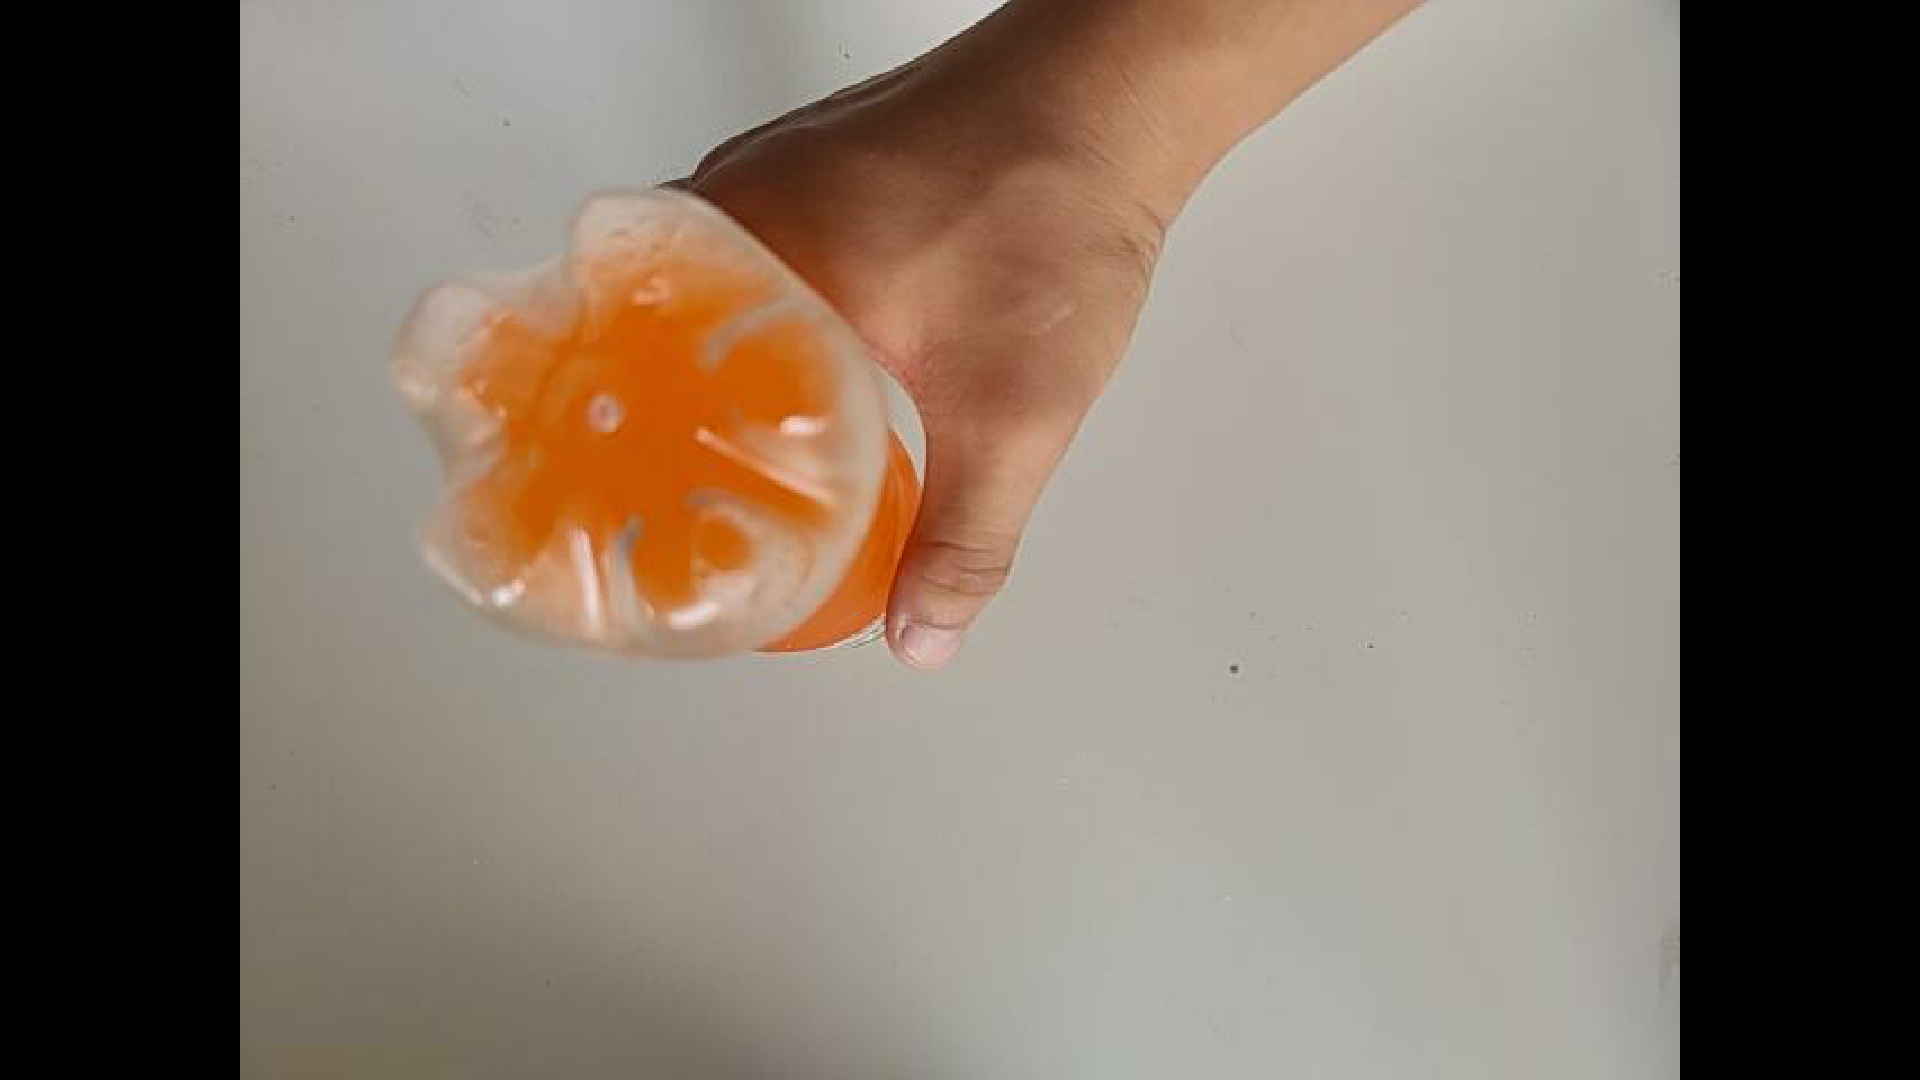fenta: (377, 183, 924, 665)
